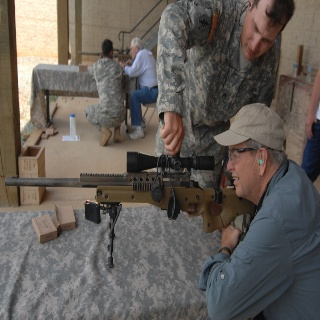rifle: (4, 149, 258, 235), (77, 46, 132, 63)
